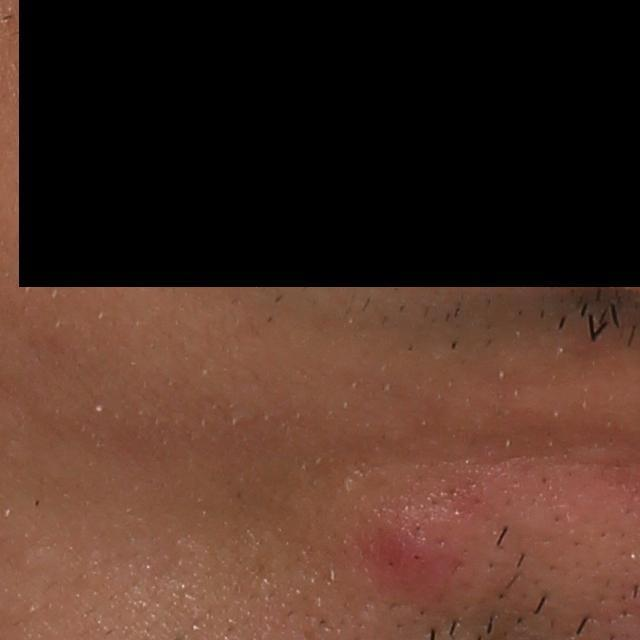papule: (357, 512, 459, 609)
